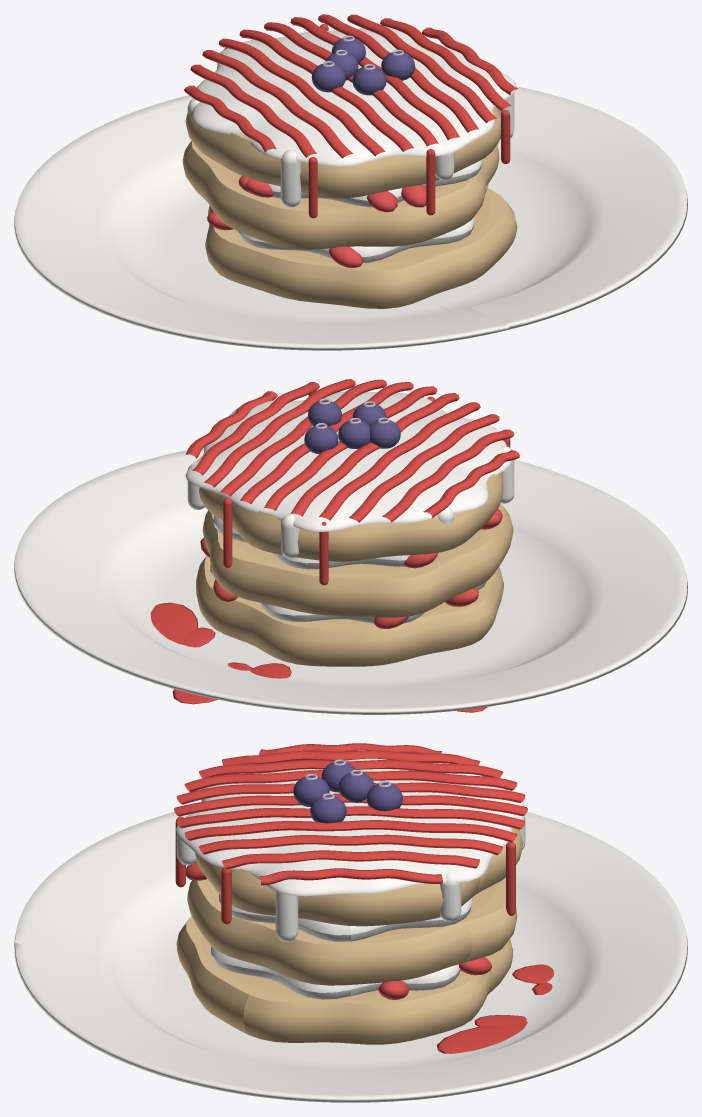
Rendered from vista-pancakes.glb.
3 renders of one model, top to bottom at view 1: azimuth 30°, elevation 25°; view 2: azimuth 150°, elevation 25°; view 3: azimuth 270°, elevation 25°, orthographic. The views are drawn at different scales.
Parts seen in each view (by area): view 1: Plate, TopCream, Pancake0, Pancake1, Pancake2, Stripe-2, Stripe-3, Stripe-1, Stripe3, Stripe2, Cream0, Stripe0 (+16 smaller); view 2: Plate, TopCream, Pancake1, Pancake0, Pancake2, Stripe-2, Stripe-3, Stripe3, Stripe-1, Stripe2, Stripe-4, Stripe0 (+16 smaller); view 3: Plate, Pancake0, Pancake1, TopCream, Pancake2, Stripe2, Stripe1, Stripe3, Cream0, Stripe-2, Stripe-3, Stripe0 (+19 smaller).
Part boxes in pixels (box(x1,y1,x2,y2)): Plate: box(14, 86, 687, 350); TopCream: box(192, 26, 516, 166); Pancake0: box(205, 187, 517, 308); Pancake1: box(182, 141, 499, 249); Pancake2: box(185, 106, 500, 198); Stripe-2: box(219, 38, 385, 156); Stripe-3: box(202, 50, 352, 158); Stripe-1: box(239, 29, 413, 151); Stripe3: box(347, 14, 496, 122); Stripe2: box(318, 14, 479, 132); Cream0: box(238, 184, 488, 262); Stripe0: box(264, 22, 438, 146); Plate: box(14, 447, 687, 714); TopCream: box(185, 391, 511, 531); Pancake1: box(202, 503, 513, 617); Pancake0: box(196, 556, 503, 666); Pancake2: box(199, 472, 503, 561); Stripe-2: box(319, 402, 480, 520); Stripe-3: box(349, 414, 499, 522); Stripe3: box(204, 379, 355, 487); Stripe-1: box(290, 393, 459, 516); Stripe2: box(220, 379, 386, 496); Stripe-4: box(382, 429, 514, 522); Stripe0: box(264, 386, 437, 510); Plate: box(14, 812, 687, 1102); Pancake0: box(176, 916, 512, 1044); Pancake1: box(187, 877, 517, 985); TopCream: box(176, 750, 524, 896); Pancake2: box(195, 800, 522, 926); Stripe2: box(184, 820, 517, 842); Stripe1: box(176, 806, 525, 829); Stripe3: box(199, 834, 502, 855); Cream0: box(211, 946, 460, 999); Stripe-2: box(184, 770, 517, 791); Stripe-3: box(199, 759, 503, 778); Stripe0: box(174, 793, 527, 816).
Bounding box in the file's own units: 0.26 × 0.0865 × 0.2392.
